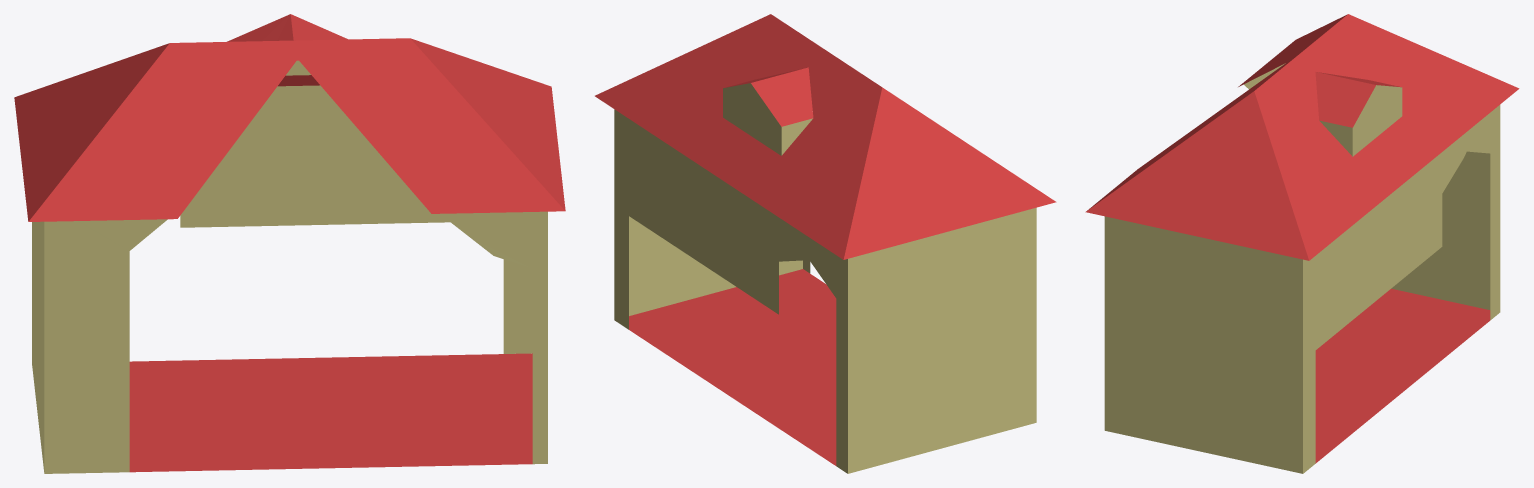
The picture shows the model from 3 angles, left to right: view 1: azimuth 30°, elevation 25°; view 2: azimuth 150°, elevation 25°; view 3: azimuth 270°, elevation 25°; orthographic projection. The views are drawn at different scales.
Visible parts, largest first — view 1: group_3, group_7, group_8, group_4, group_6; view 2: group_7, group_3, group_8, group_5, group_4; view 3: group_7, group_3, group_8, group_5, group_4.
Part boxes in pixels (left/top/right/bottom): group_3: left=14, top=38, right=565, bottom=221; group_7: left=32, top=85, right=547, bottom=473; group_8: left=129, top=353, right=532, bottom=472; group_4: left=227, top=14, right=347, bottom=41; group_6: left=31, top=192, right=562, bottom=221; group_7: left=614, top=109, right=1036, bottom=473; group_3: left=595, top=14, right=1056, bottom=259; group_8: left=629, top=269, right=836, bottom=465; group_5: left=723, top=83, right=812, bottom=155; group_4: left=726, top=67, right=813, bottom=126; group_7: left=1104, top=63, right=1500, bottom=473; group_3: left=1085, top=14, right=1519, bottom=260; group_8: left=1315, top=288, right=1490, bottom=463; group_5: left=1319, top=85, right=1402, bottom=156; group_4: left=1315, top=72, right=1401, bottom=127.
Size of the model in its own units: 27.33 by 22.68 by 18.37.
